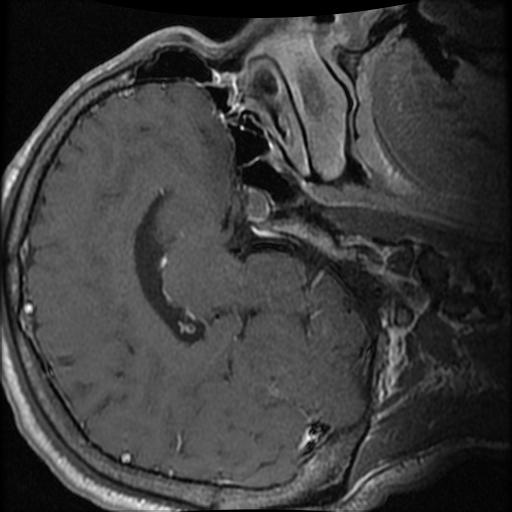pituitary tumour: (244, 188, 271, 226)
